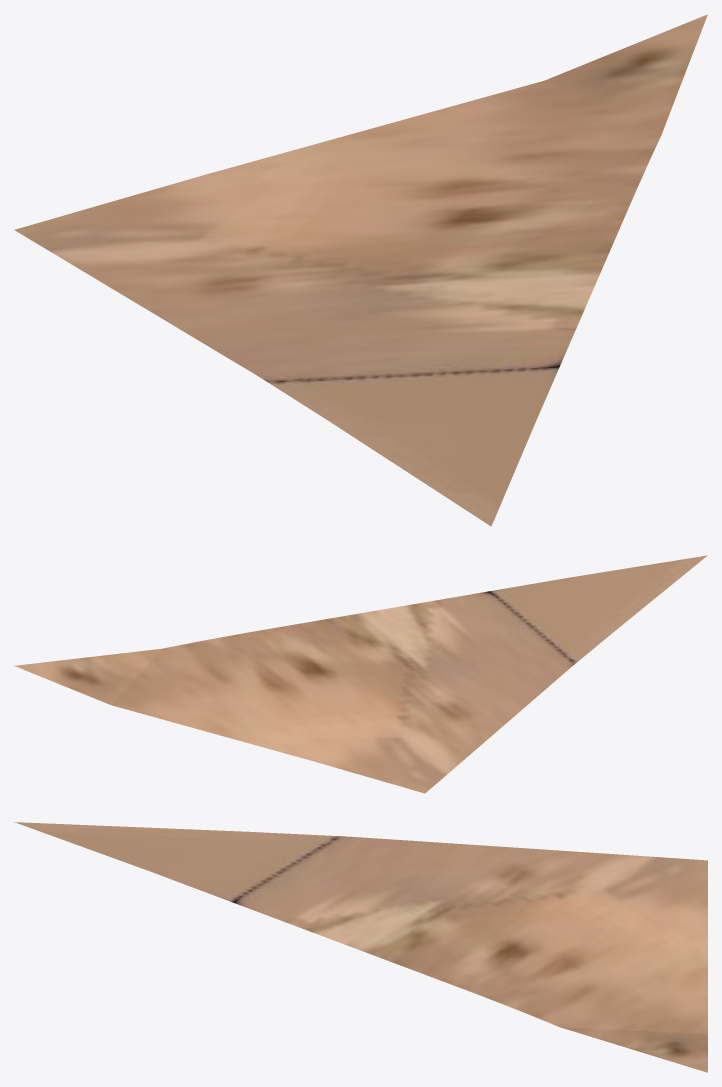
3 renders of one model, top to bottom at view 1: azimuth 30°, elevation 25°; view 2: azimuth 150°, elevation 25°; view 3: azimuth 270°, elevation 25°, orthographic. The views are drawn at different scales.
Size of the model in its own units: 0.7882 by 0.0572 by 0.9392.
1 material, 1 textured.
